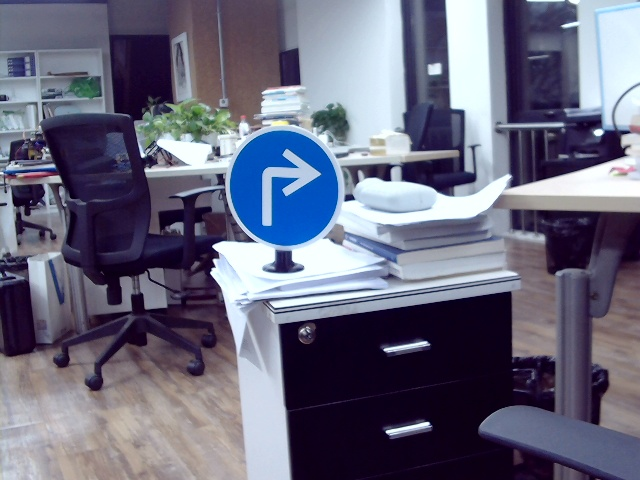turn_right: (247, 144, 324, 224)
